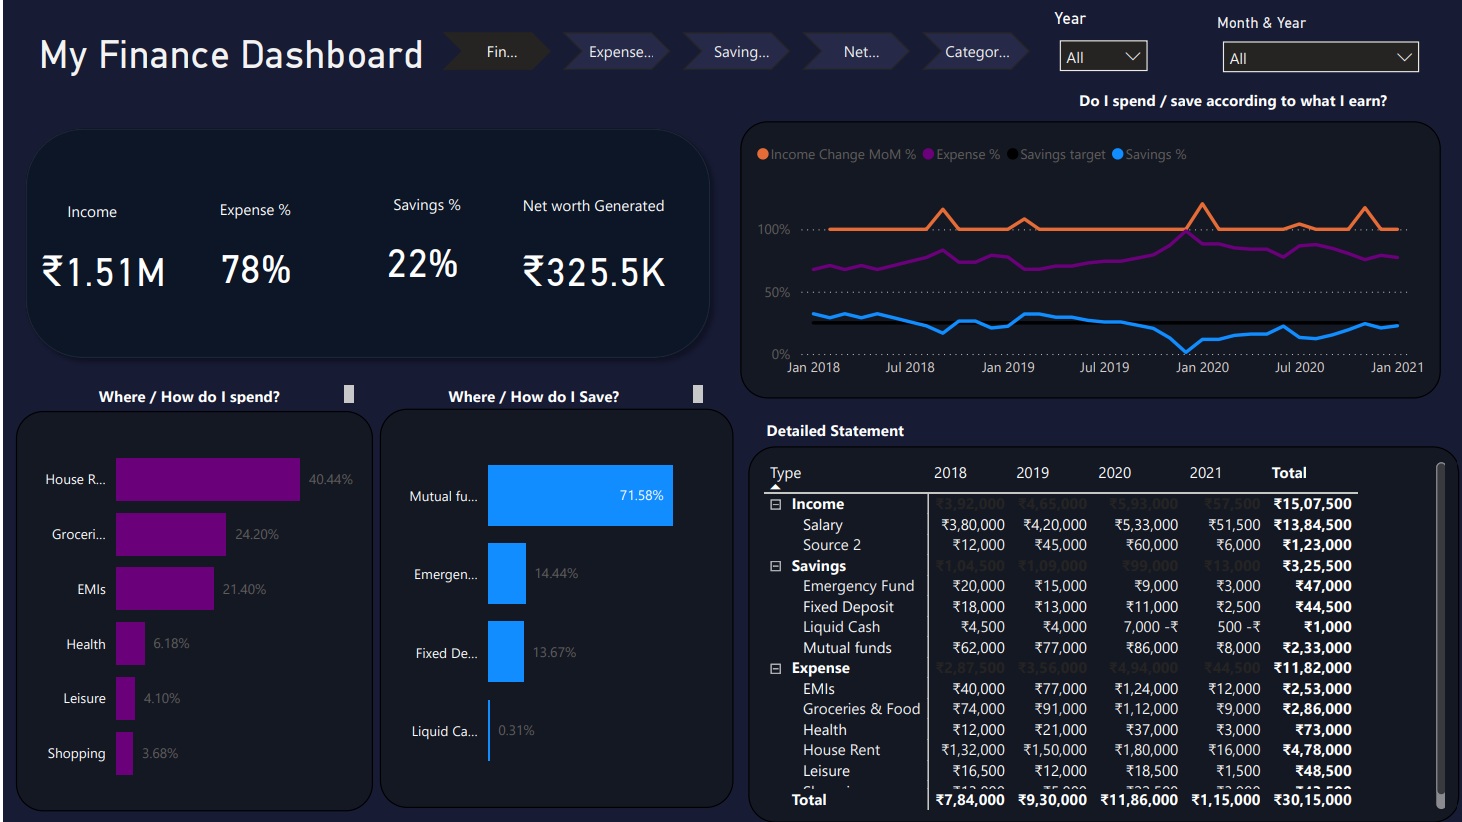

Layout of this report page (visuals, bound fields, positions):
{"tool":"powerbi","page":{"name":"Fin Dashboard","canvas":[1280,720],"ordinal":0},"visuals":[{"type":"shape","box":[10.8,104.5,617.2,217.3],"z":0},{"type":"card","fields":{"Values":["Key Measures.Total Income"]},"box":[22.8,175.3,129.7,121.3],"z":1000},{"type":"card","fields":{"Values":["Key Measures.Expense %"]},"box":[152.3,169.8,137.2,126.7],"z":2000},{"type":"card","fields":{"Values":["Key Measures.Savings %"]},"box":[298.8,164,137.2,126.7],"z":3000},{"type":"card","fields":{"Values":["Key Measures.Total Saving"]},"box":[448.8,172.1,137.2,126.7],"z":4000},{"type":"textbox","box":[22.8,170.5,110.5,30],"z":5000},{"type":"textbox","box":[160.9,169.3,120.1,30],"z":6000},{"type":"textbox","box":[312.2,164.5,118.9,30],"z":7000},{"type":"textbox","box":[449.1,165.7,136.9,30],"z":8000},{"type":"slicer","title":"Year","fields":{"Values":["FinData.Year"]},"box":[916.2,8.4,97.3,62.4],"z":9000},{"type":"slicer","title":"Month & Year","fields":{"Values":["FinData.Date"]},"box":[1059.1,12,192.1,63.6],"z":10000},{"type":"card","fields":{"Values":["Key Measures.Title"]},"box":[12,18,367.4,52.8],"z":11000},{"type":"clusteredBarChart","fields":{"Category":["FinData.Component"],"Y":["Key Measures.Total Expense"]},"box":[11.1,360.3,313,350.6],"z":12000},{"type":"textbox","box":[22.3,332.5,289.4,25],"z":13000},{"type":"clusteredBarChart","fields":{"Category":["FinData.Component"],"Y":["Key Measures.Total Saving"]},"box":[330.2,357.8,309.8,350.6],"z":14000},{"type":"textbox","box":[320,332.5,297.7,25],"z":15000},{"type":"lineChart","fields":{"Y":["Key Measures.Income Change MoM %","Key Measures.Expense %","Key Measures.Savings target","Key Measures.Savings %"],"Category":["FinData.Date"]},"box":[646,105.7,613.6,243.8],"z":16000},{"type":"textbox","box":[937.8,74.4,313.4,32.4],"z":17000},{"type":"pivotTable","fields":{"Values":["Key Measures.Values"],"Columns":["FinData.Year","FinData.Date"],"Rows":["Type.Type","FinData.Component"]},"box":[652.5,391,624.7,329.7],"z":18000},{"type":"textbox","box":[663.7,363.1,311.7,27.8],"z":19000},{"type":"pageNavigator","box":[385.4,27.6,519.9,33.6],"z":20000}]}

Visuals, with their boxes in screenshot pixels (x1, y1, x2, y2), scaled from the page's 1280x720 canvas onto the 1462x822 screenshot:
shape: box=[12, 119, 717, 367]
card - Key Measures.Total Income: box=[26, 200, 174, 339]
card - Key Measures.Expense %: box=[174, 194, 331, 339]
card - Key Measures.Savings %: box=[341, 187, 498, 332]
card - Key Measures.Total Saving: box=[513, 196, 669, 341]
textbox: box=[26, 195, 152, 229]
textbox: box=[184, 193, 321, 228]
textbox: box=[357, 188, 492, 222]
textbox: box=[513, 189, 669, 223]
"Year" slicer: box=[1046, 10, 1158, 81]
"Month & Year" slicer: box=[1210, 14, 1429, 86]
card - Key Measures.Title: box=[14, 21, 433, 81]
clusteredBarChart - FinData.Component x Key Measures.Total Expense: box=[13, 411, 370, 812]
textbox: box=[25, 380, 356, 408]
clusteredBarChart - FinData.Component x Key Measures.Total Saving: box=[377, 408, 731, 809]
textbox: box=[366, 380, 706, 408]
lineChart - Key Measures.Income Change MoM % x Key Measures.Expense %: box=[738, 121, 1439, 399]
textbox: box=[1071, 85, 1429, 122]
pivotTable - Key Measures.Values x FinData.Year: box=[745, 446, 1459, 821]
textbox: box=[758, 415, 1114, 446]
pageNavigator: box=[440, 32, 1034, 70]
